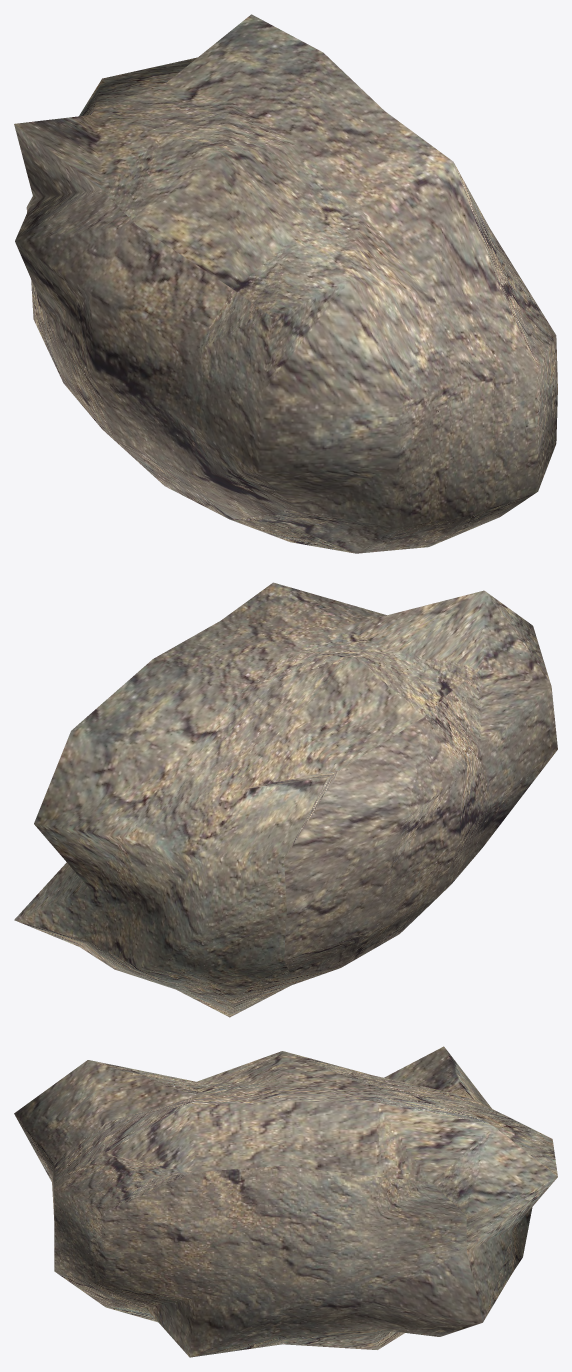
The model's file is Meteor.fbx.
3 renders of one model, top to bottom at view 1: azimuth 30°, elevation 25°; view 2: azimuth 150°, elevation 25°; view 3: azimuth 270°, elevation 25°, orthographic. The views are drawn at different scales.
Parts seen in each view (by area): view 1: Meteor; view 2: Meteor; view 3: Meteor.
Boxes of the visible parts, box(x1,y1,x2,y2) form: Meteor: box(14, 14, 557, 553); Meteor: box(14, 582, 557, 1017); Meteor: box(14, 1046, 557, 1357).
Size of the model in its own units: 18.33 by 18.06 by 32.01.
1 material, 1 textured.
